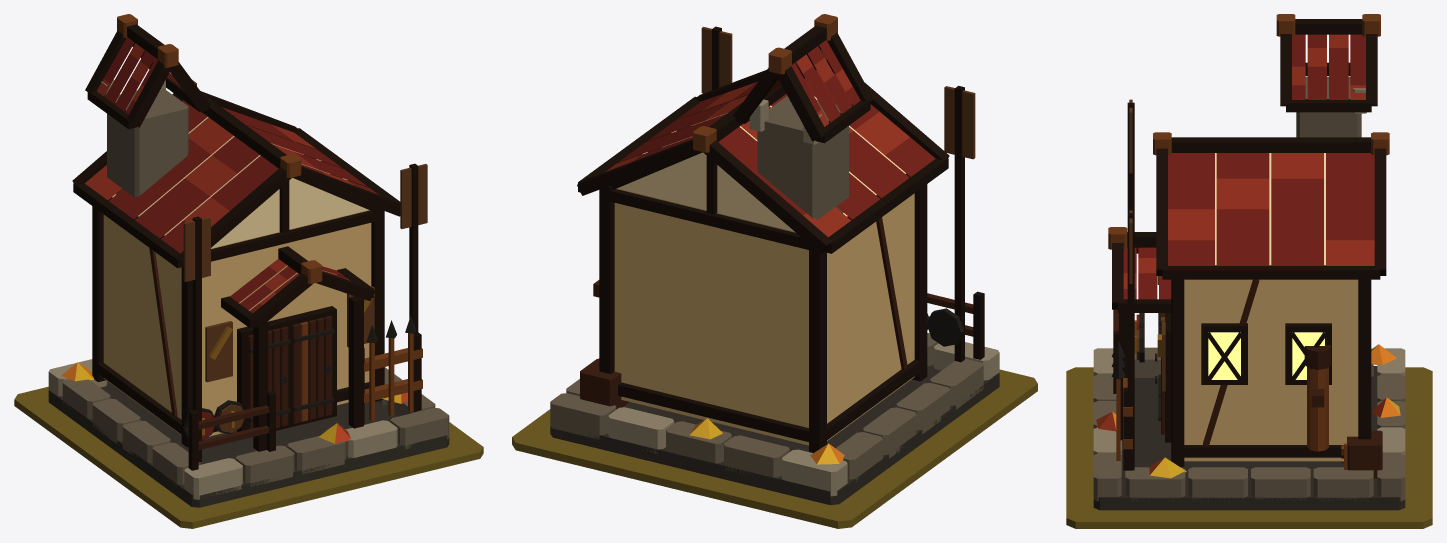
Rendered from barracks_t6.glb.
The picture shows the model from 3 angles, left to right: view 1: azimuth 30°, elevation 25°; view 2: azimuth 150°, elevation 25°; view 3: azimuth 270°, elevation 25°; orthographic projection. The views are drawn at different scales.
Parts seen in each view (by area): view 1: MMR | barracks | T06 Architecture.001, MMR | barracks | Tier 06 Ground.001, MMR | barracks | T06 Banner Flag 1.001, MMR | barracks | T06 Banner Flag 3.001, MMR | barracks | T06 Banner Flag 4.001, MMR | barracks | T06 Autumn Dressing.001; view 2: MMR | barracks | T06 Architecture.001, MMR | barracks | Tier 06 Ground.001, MMR | barracks | T06 Banner Flag 3.001, MMR | barracks | T06 Banner Flag 4.001, MMR | barracks | T06 Autumn Dressing.001; view 3: MMR | barracks | T06 Architecture.001, MMR | barracks | Tier 06 Ground.001, MMR | barracks | T06 Autumn Dressing.001.
Boxes of the visible parts, x1,y1,x2,y2 form: MMR | barracks | T06 Architecture.001: [48, 14, 449, 507]; MMR | barracks | Tier 06 Ground.001: [14, 386, 483, 528]; MMR | barracks | T06 Banner Flag 1.001: [205, 321, 232, 382]; MMR | barracks | T06 Banner Flag 3.001: [183, 216, 210, 281]; MMR | barracks | T06 Banner Flag 4.001: [400, 164, 427, 228]; MMR | barracks | T06 Autumn Dressing.001: [61, 362, 407, 443]; MMR | barracks | T06 Architecture.001: [550, 14, 999, 505]; MMR | barracks | Tier 06 Ground.001: [512, 369, 1037, 528]; MMR | barracks | T06 Banner Flag 3.001: [944, 86, 975, 159]; MMR | barracks | T06 Banner Flag 4.001: [701, 26, 732, 93]; MMR | barracks | T06 Autumn Dressing.001: [689, 418, 844, 464]; MMR | barracks | T06 Architecture.001: [1093, 14, 1405, 510]; MMR | barracks | Tier 06 Ground.001: [1066, 367, 1432, 528]; MMR | barracks | T06 Autumn Dressing.001: [1096, 344, 1400, 478].
Size of the model in its own units: 2.35 by 2.85 by 2.35.
Materials: 2 (1 with a texture image).
